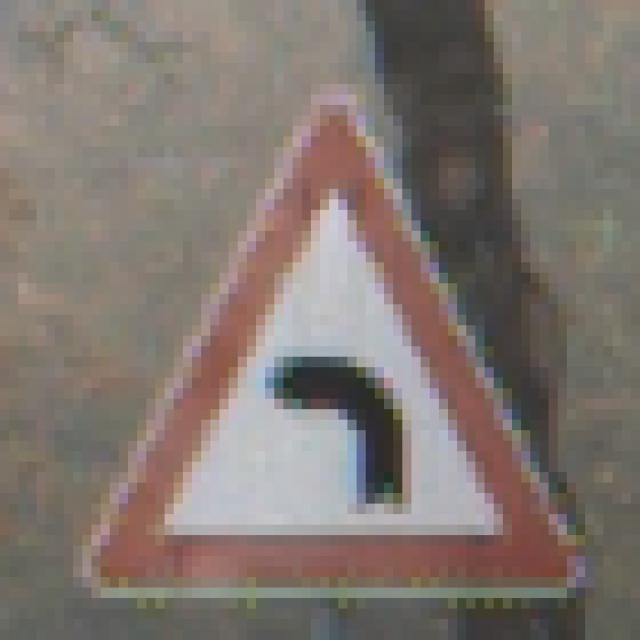left hand curve: (78, 92, 577, 596)
